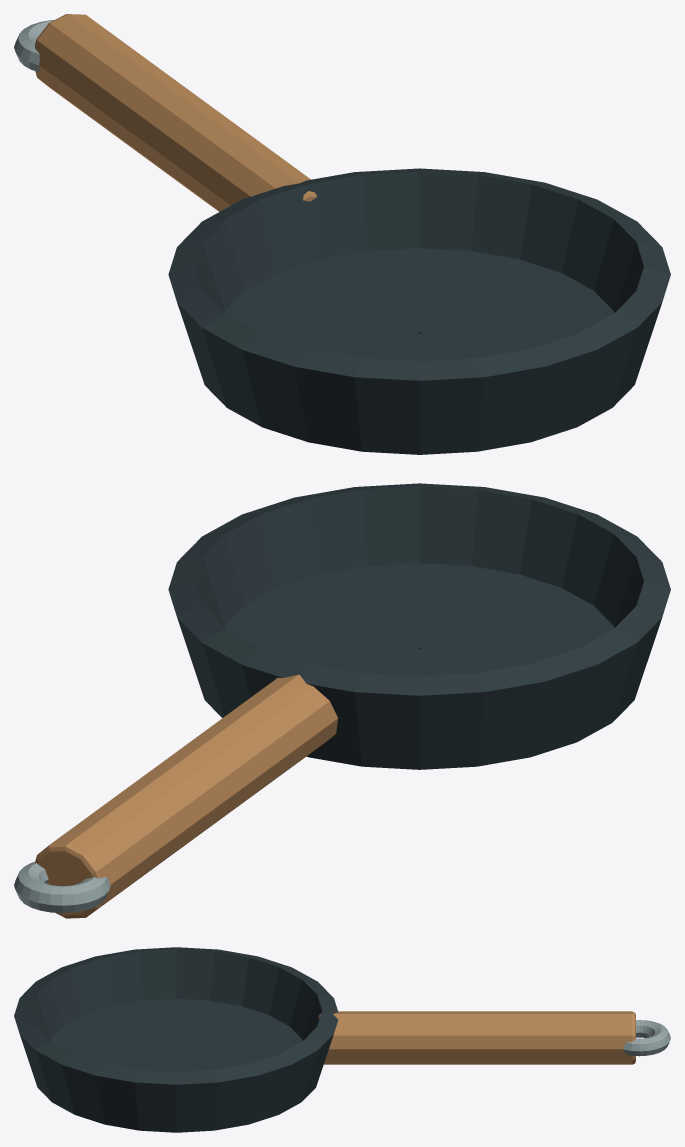
The model's file is P038_frying_pan.glb.
The picture shows the model from 3 angles, top to bottom: view 1: azimuth 30°, elevation 25°; view 2: azimuth 150°, elevation 25°; view 3: azimuth 270°, elevation 25°; orthographic projection. The views are drawn at different scales.
Visible parts, largest first — view 1: P038_pan_001, P038_handle_002, P038_hanging_hole_003; view 2: P038_pan_001, P038_handle_002, P038_hanging_hole_003; view 3: P038_pan_001, P038_handle_002, P038_hanging_hole_003.
Part boxes in pixels (box(x1,y1,x2,y2)): P038_pan_001: box(168, 168, 670, 454); P038_handle_002: box(35, 14, 316, 211); P038_hanging_hole_003: box(14, 20, 53, 72); P038_pan_001: box(168, 483, 670, 769); P038_handle_002: box(35, 674, 337, 918); P038_hanging_hole_003: box(14, 861, 110, 912); P038_pan_001: box(14, 947, 338, 1132); P038_handle_002: box(318, 1011, 635, 1064); P038_hanging_hole_003: box(623, 1020, 670, 1056).
Bounding box in the file's own units: 0.28 × 0.058 × 0.565.
